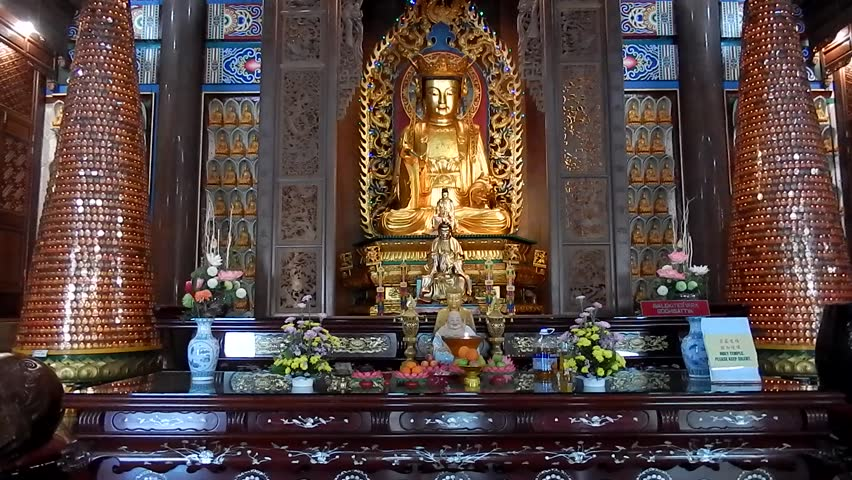Buddhist Temple: (344, 54, 535, 291)
